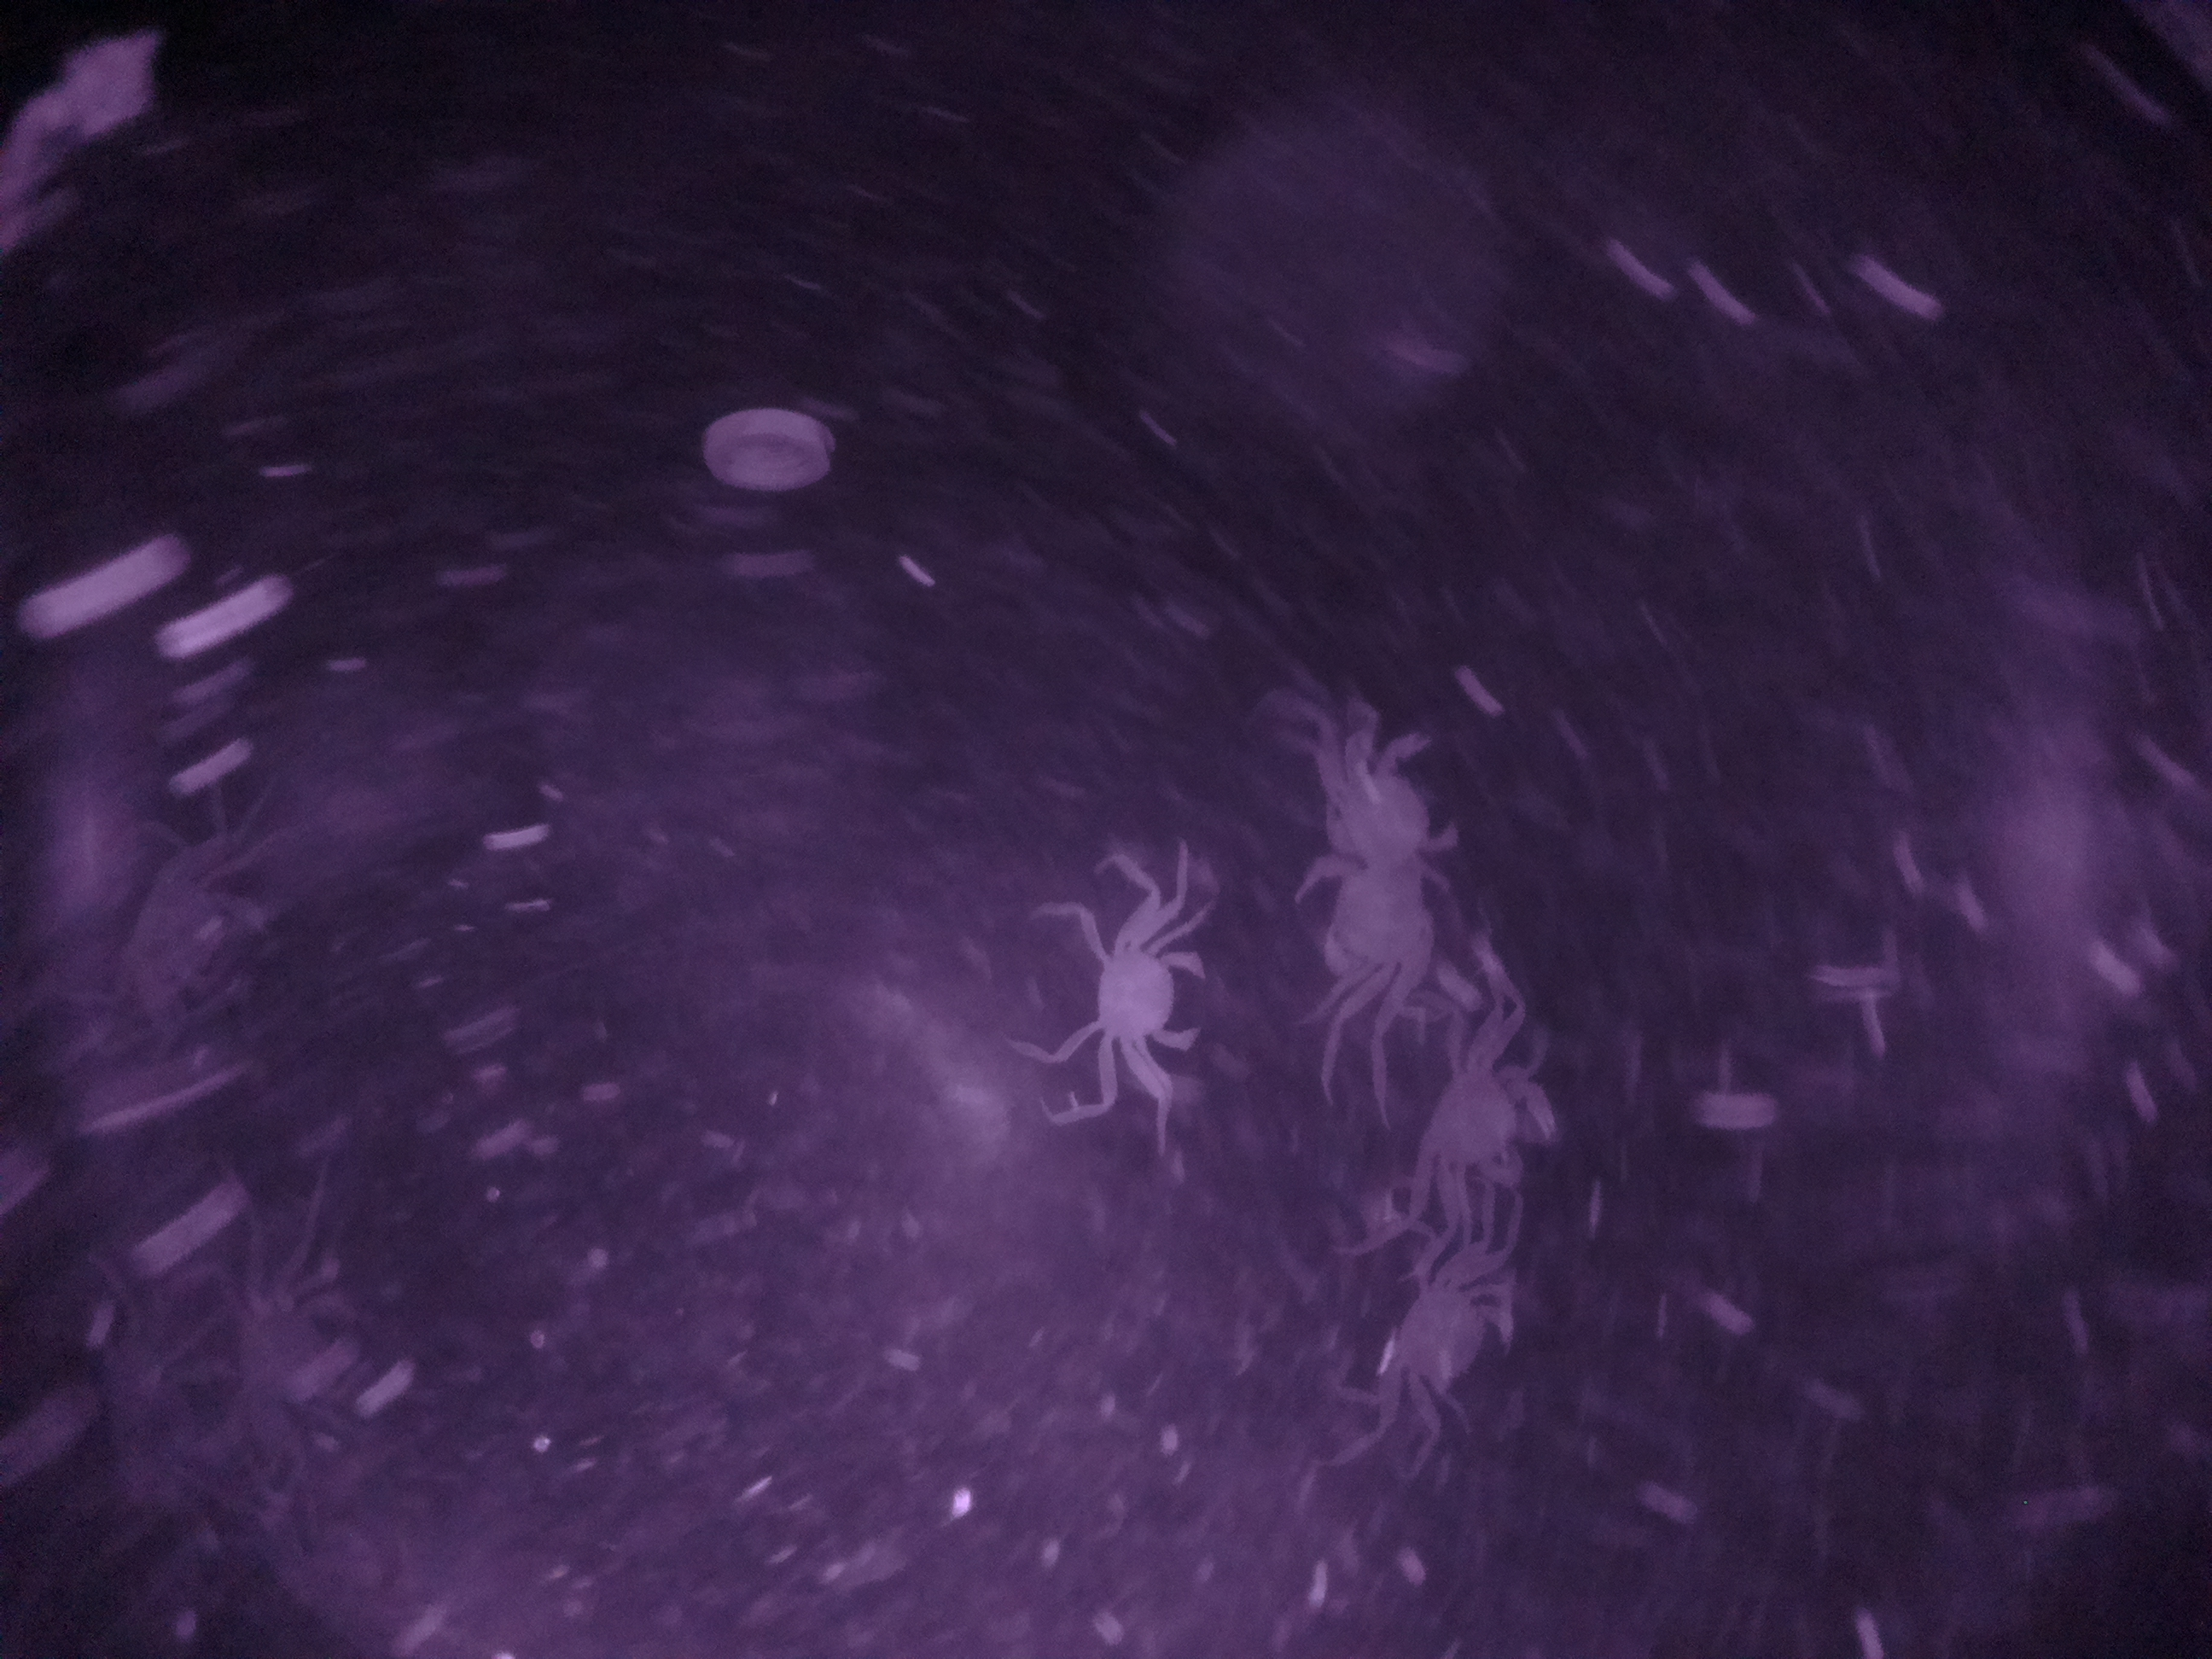Crab: (1341, 1239, 1541, 1436), (1390, 1006, 1575, 1215), (1054, 889, 1211, 1112)
